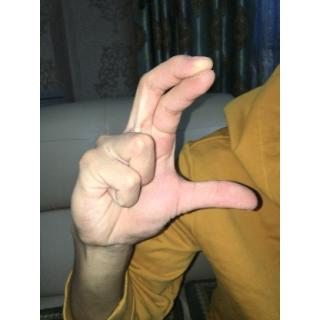DHELL: (63, 47, 261, 267)
